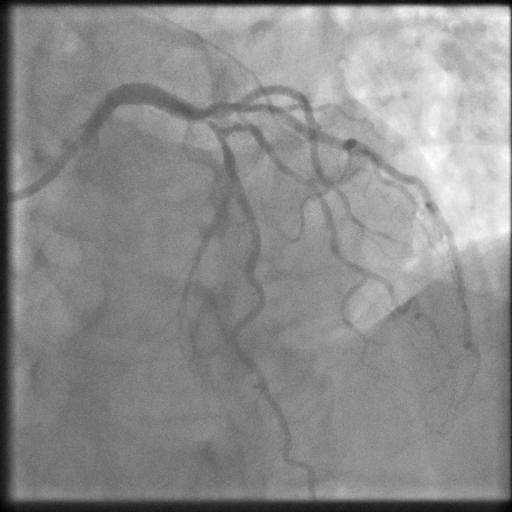Stenosis: (202, 114, 229, 149)
